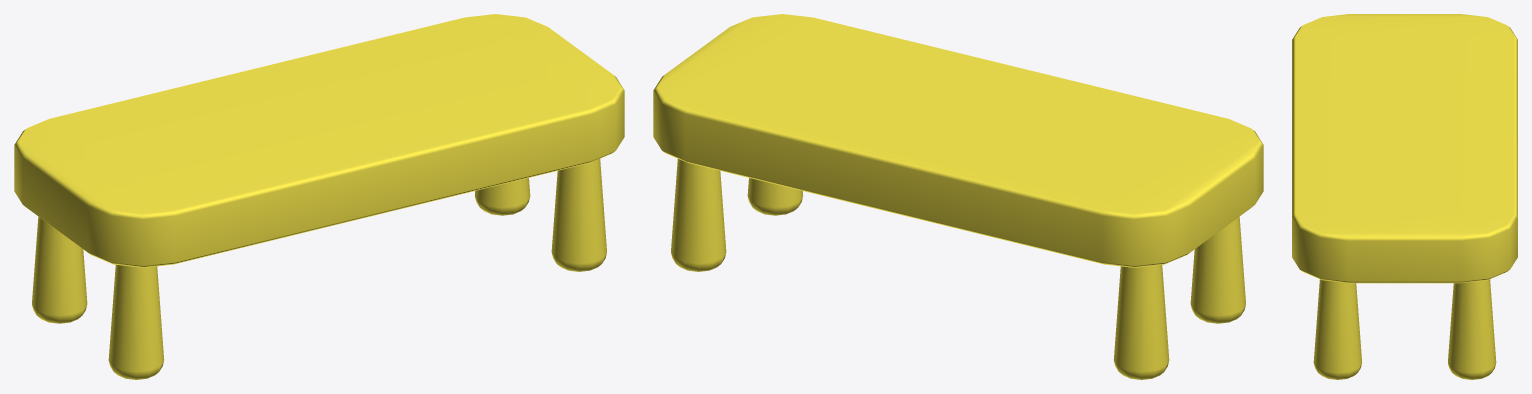
Rendered from City_3_Bench_1.glb.
The picture shows the model from 3 angles, left to right: view 1: azimuth 30°, elevation 25°; view 2: azimuth 150°, elevation 25°; view 3: azimuth 270°, elevation 25°; orthographic projection. The views are drawn at different scales.
Parts seen in each view (by area): view 1: City_3_Bench_1; view 2: City_3_Bench_1; view 3: City_3_Bench_1.
Boxes of the visible parts, box(x1,y1,x2,y2) form: City_3_Bench_1: box(14, 14, 624, 379); City_3_Bench_1: box(653, 14, 1263, 379); City_3_Bench_1: box(1292, 14, 1517, 379).
Size of the model in its own units: 1.7 by 0.5435 by 0.7208.
1 material, 1 textured.
